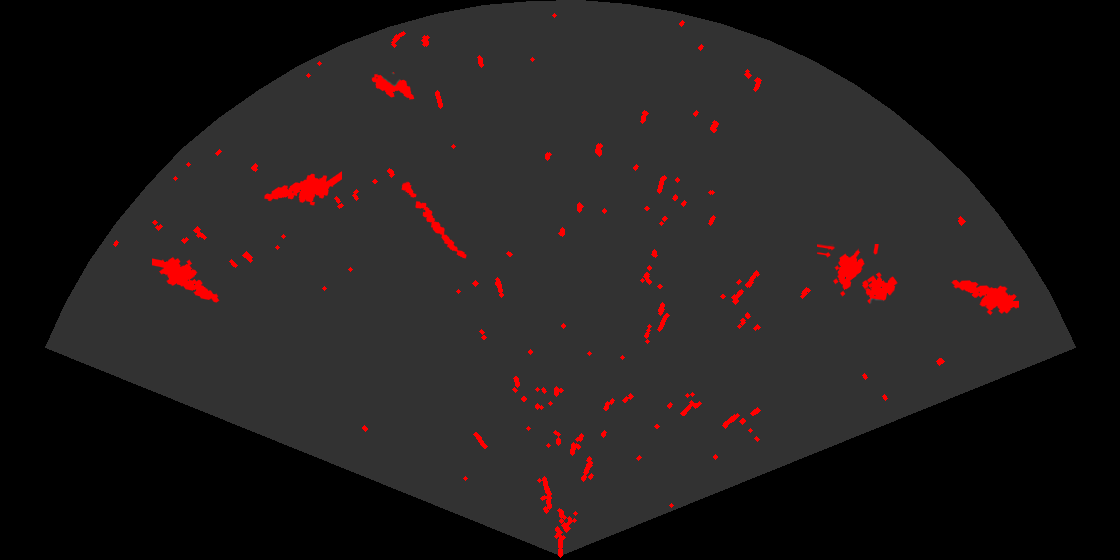AUV: (370, 70, 416, 101)
cage: (817, 244, 899, 305)
chain: (400, 180, 468, 260)
frogman: (152, 256, 221, 304), (263, 170, 342, 207), (950, 278, 1019, 317)
